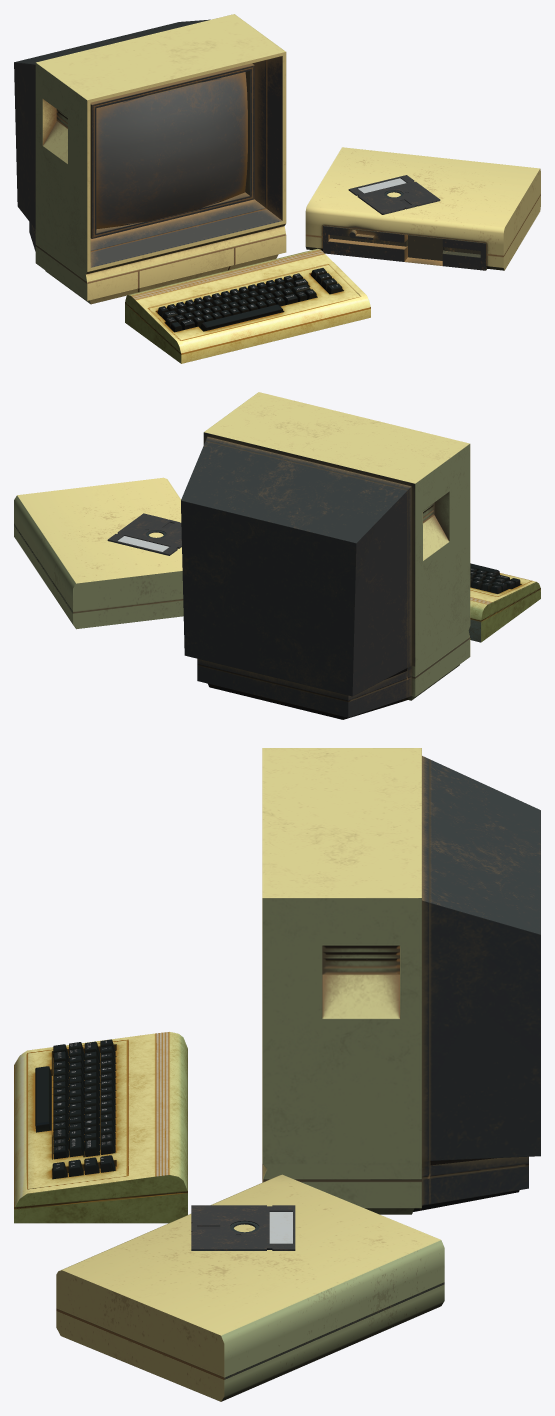
Rendered from vintage_computer.glb.
3 renders of one model, top to bottom at view 1: azimuth 30°, elevation 25°; view 2: azimuth 150°, elevation 25°; view 3: azimuth 270°, elevation 25°, orthographic. The views are drawn at different scales.
Parts seen in each view (by area): view 1: Tvlow, Disk player, KeyboardLow, Diskette; view 2: Tvlow, Disk player, KeyboardLow, Diskette; view 3: Tvlow, Disk player, KeyboardLow, Diskette.
Part boxes in pixels (x1,y1,x2,y2): Tvlow: (14,14,286,304); Disk player: (305,147,540,270); KeyboardLow: (125,248,370,363); Diskette: (348,175,440,214); Tvlow: (181,392,470,719); Disk player: (14,477,183,629); KeyboardLow: (468,563,540,642); Diskette: (107,513,181,555); Tvlow: (262,748,540,1214); Disk player: (56,1174,444,1401); KeyboardLow: (14,1032,187,1223); Diskette: (191,1205,295,1250).
Bounding box in the file's own units: 1110 × 501 × 742.
4 materials, 4 textured.
